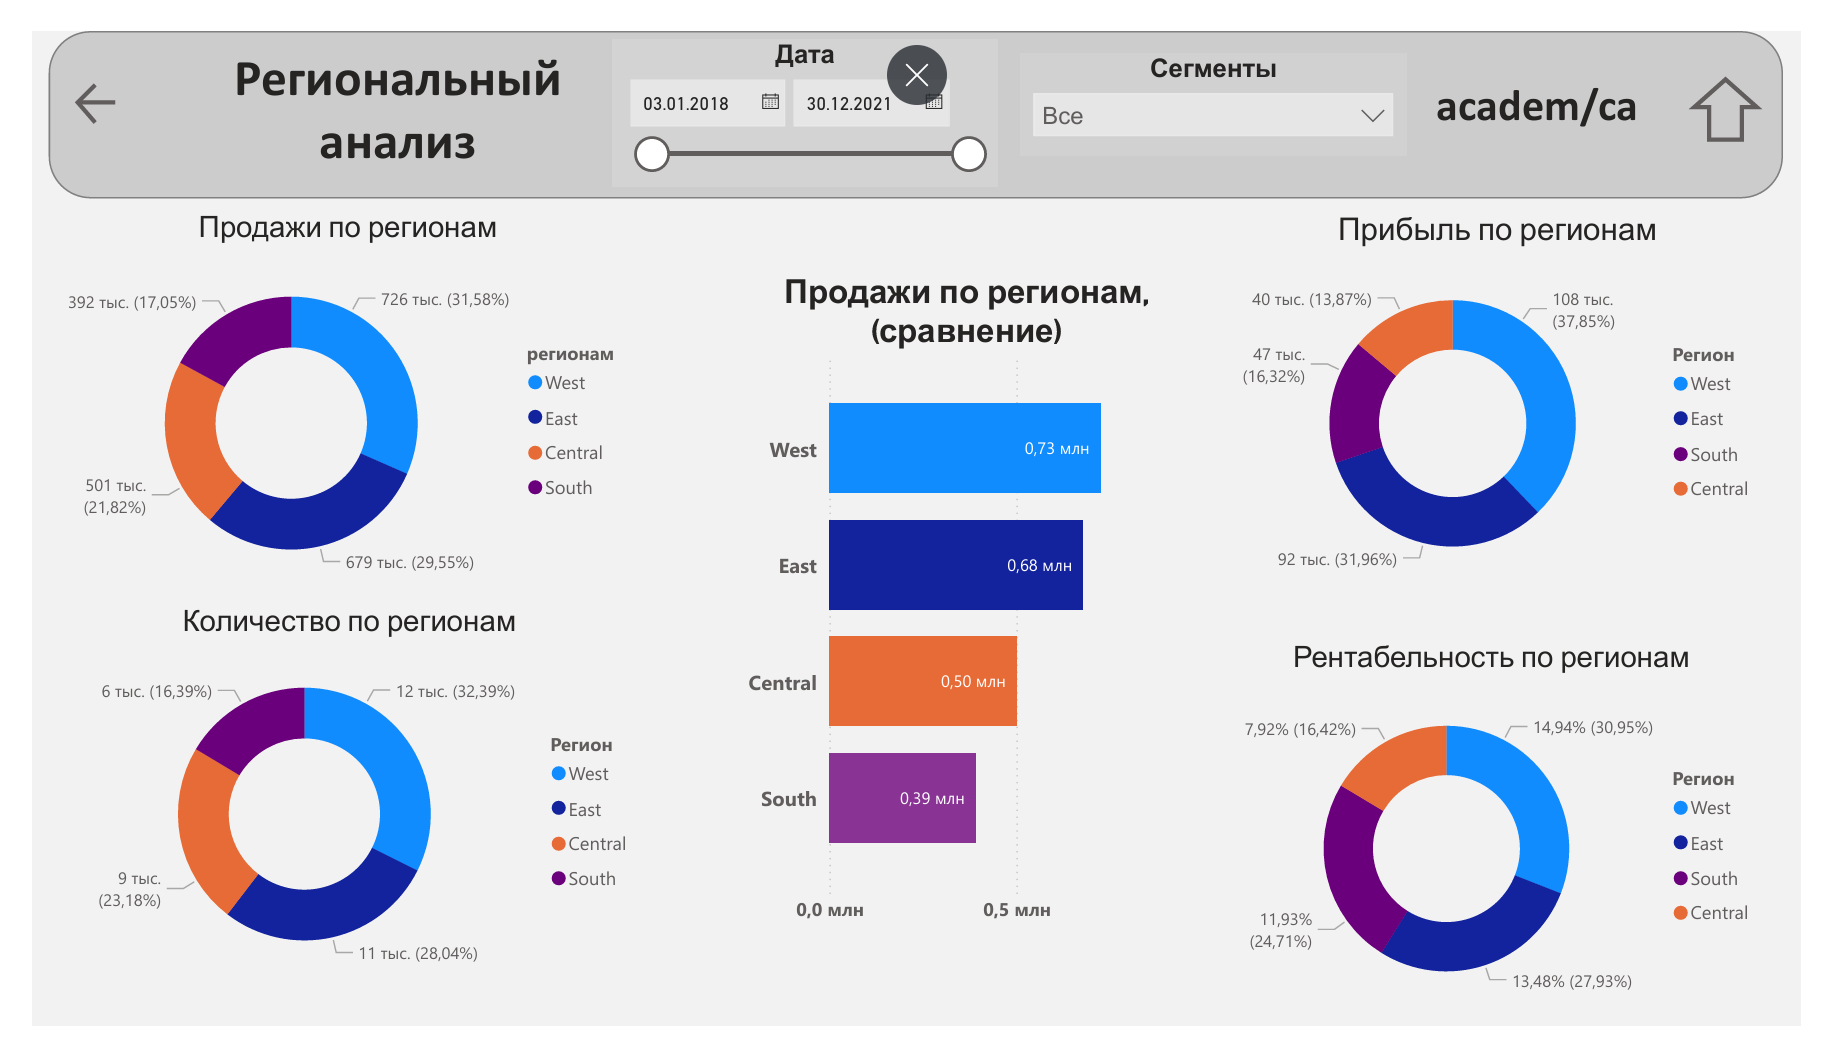

The dashboard page shown, as its layout file describes it:
{"tool":"powerbi","page":{"name":"Регионы","canvas":[1280,720],"ordinal":4},"visuals":[{"type":"shape","box":[1204,38.6,42.2,44.6],"z":0},{"type":"shape","box":[11.8,0,1255.2,120.9],"z":1000},{"type":"textbox","box":[999.1,29.4,179.9,50.1],"z":1000,"group":"g1"},{"type":"textbox","box":[126.7,4.8,275.1,103.8],"z":2000},{"type":"slicer","title":"Дата","fields":{"Values":["Sample - Superstore_Orders.Order Date"]},"box":[419.8,6,278.7,107.4],"z":2005,"group":"g1"},{"type":"donutChart","fields":{"Y":["Sum(Sample - Superstore_Orders.Sales)"],"Category":["Sample - Superstore_Orders.Region"]},"box":[12.4,129.8,432.5,285.5],"z":3000},{"type":"donutChart","title":"Прибыль по регионам","fields":{"Y":["Sum(Sample - Superstore_Orders.Profit)"],"Category":["Sample - Superstore_Orders.Region"]},"box":[863.8,129.8,393,285.5],"z":4000},{"type":"donutChart","title":"Количество по регионам","fields":{"Y":["Sum(Sample - Superstore_Orders.Quantity)"],"Category":["Sample - Superstore_Orders.Region"]},"box":[13.6,415.2,431.3,280.5],"z":5000},{"type":"donutChart","title":"Рентабельность по регионам","fields":{"Y":["МЕРЫ.Profit_Ratio"],"Category":["Sample - Superstore_Orders.Region"]},"box":[855.1,441.2,401.6,279.3],"z":6000},{"type":"group","id":"g1","title":"Группа 1","box":[419.8,6,758.9,107.4],"z":7000},{"type":"barChart","title":"Продажи по регионам, (сравнение)","fields":{"Category":["Sample - Superstore_Orders.Region"],"Y":["Sum(Sample - Superstore_Orders.Sales)"]},"box":[511.6,175.5,328.7,479.5],"z":8000},{"type":"slicer","title":"Сегменты","fields":{"Values":["Sample - Superstore_Orders.Segment"]},"box":[715.4,15.7,279.9,74.8],"z":9000},{"type":"actionButton","box":[26.5,32.6,100.1,39.8],"z":10000},{"type":"actionButton","box":[1199.2,32.6,53.1,47.1],"z":11000}]}

Visuals, with their boxes in screenshot pixels (x1, y1, x2, y2), scaled from the page's 1280x720 canvas onto the 1835x1055 screenshot:
shape: (1726,57,1787,122)
shape: (17,0,1816,177)
textbox: (1432,43,1690,116)
textbox: (182,7,576,159)
"Дата" slicer: (602,9,1001,166)
donutChart - Sum(Sample - Superstore_Orders.Sales) x Sample - Superstore_Orders.Region: (18,190,638,609)
"Прибыль по регионам" donutChart: (1238,190,1802,609)
"Количество по регионам" donutChart: (19,608,638,1019)
"Рентабельность по регионам" donutChart: (1226,646,1802,1054)
"Группа 1" group: (602,9,1690,166)
"Продажи по регионам, (сравнение)" barChart: (733,257,1205,960)
"Сегменты" slicer: (1026,23,1427,133)
actionButton: (38,48,181,106)
actionButton: (1719,48,1795,117)
